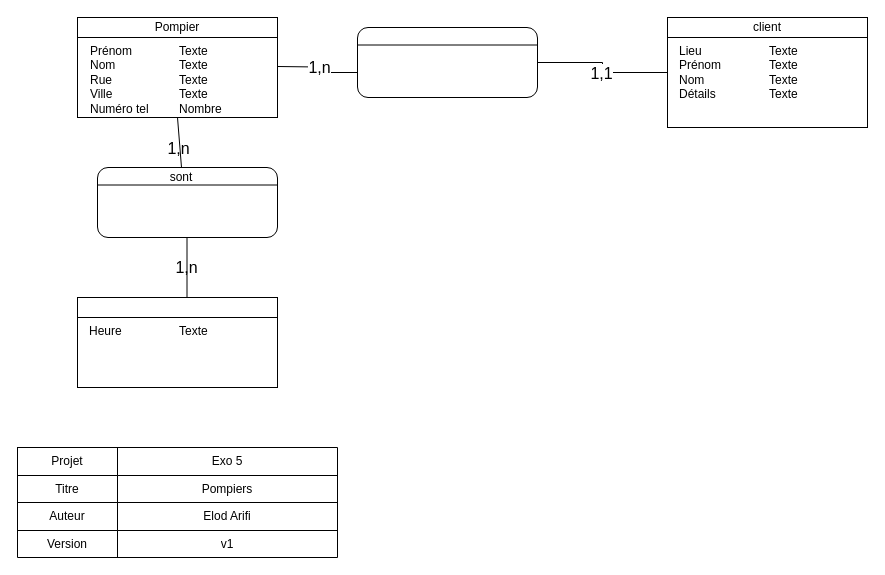
Image size: 885x575. Some labels were removed from this diagram. Each missing label, with the box of its shape:
aidé: (356, 26, 538, 98)
sorties: (76, 296, 278, 318)
